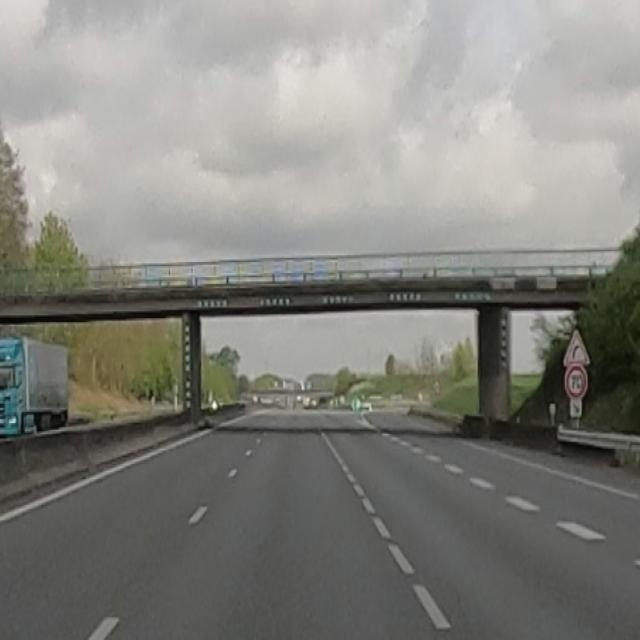speed_70: (566, 366, 588, 398)
